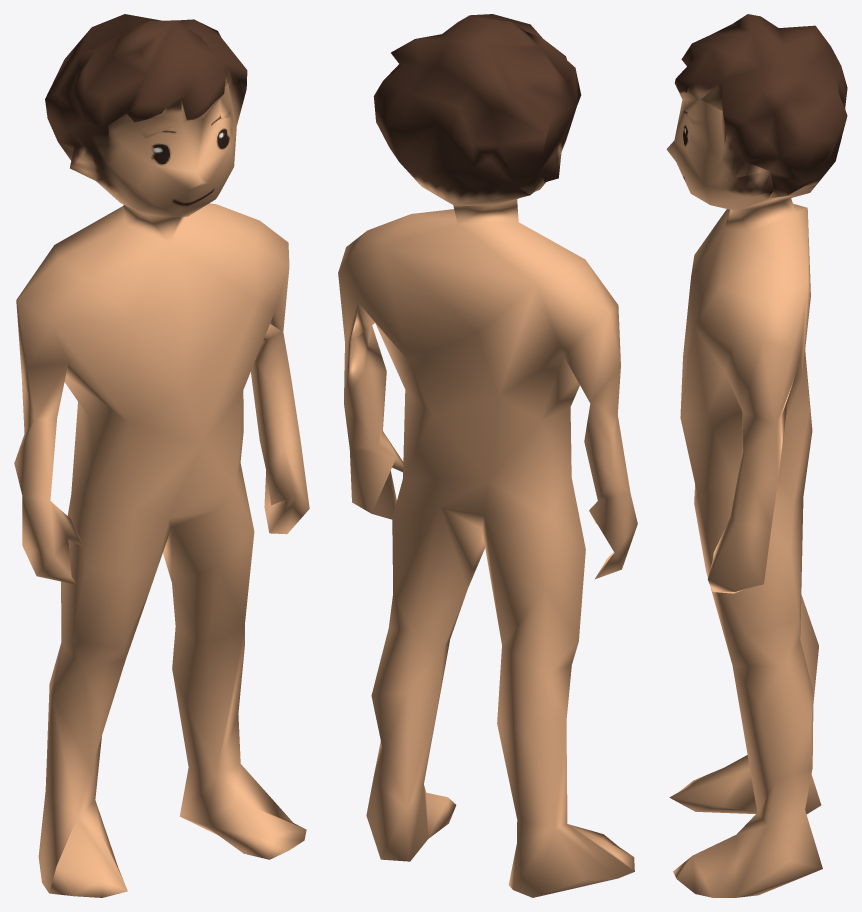
Rendered from npc_bath_standing_lod_far.glb.
3 renders of one model, left to right at view 1: azimuth 30°, elevation 25°; view 2: azimuth 150°, elevation 25°; view 3: azimuth 270°, elevation 25°, orthographic. The views are drawn at different scales.
Parts seen in each view (by area): view 1: npc_bath_standing_lod_far; view 2: npc_bath_standing_lod_far; view 3: npc_bath_standing_lod_far.
Boxes of the visible parts, bbox=[...] form: npc_bath_standing_lod_far: bbox=[14, 14, 309, 897]; npc_bath_standing_lod_far: bbox=[338, 14, 637, 897]; npc_bath_standing_lod_far: bbox=[666, 14, 847, 897].
Bounding box in the file's own units: 0.5496 × 1.6 × 0.3193.
Materials: 1 (1 with a texture image).
